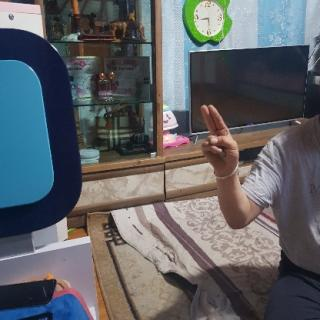TA: (199, 100, 239, 175)
